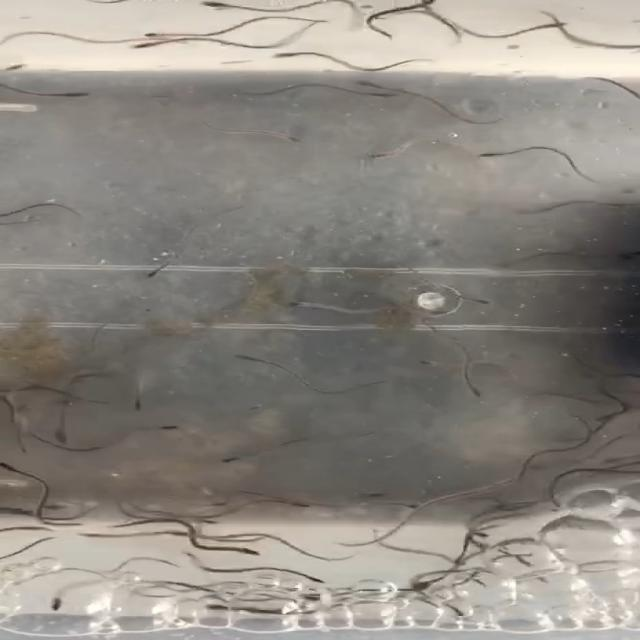active_glass_eel: (282, 297, 341, 318), (252, 49, 329, 63), (136, 256, 170, 282), (0, 58, 47, 76), (125, 36, 181, 51), (46, 84, 91, 102), (351, 72, 397, 89), (454, 289, 500, 306), (232, 349, 272, 368), (460, 380, 495, 400), (294, 569, 335, 586), (409, 578, 451, 594), (463, 522, 499, 540), (368, 147, 411, 162), (220, 542, 260, 558), (357, 86, 402, 100), (382, 500, 429, 513), (416, 356, 454, 372), (144, 419, 187, 433), (214, 450, 251, 466), (126, 393, 154, 414), (478, 148, 519, 162), (192, 0, 248, 10), (53, 423, 78, 445), (446, 604, 472, 625), (266, 129, 302, 144), (191, 600, 232, 613), (286, 499, 324, 513), (39, 593, 68, 611), (362, 488, 394, 504), (190, 515, 224, 530), (83, 527, 119, 541), (520, 20, 570, 30), (0, 460, 28, 477), (133, 26, 176, 37), (508, 472, 536, 486), (593, 412, 624, 424), (201, 498, 235, 508)
